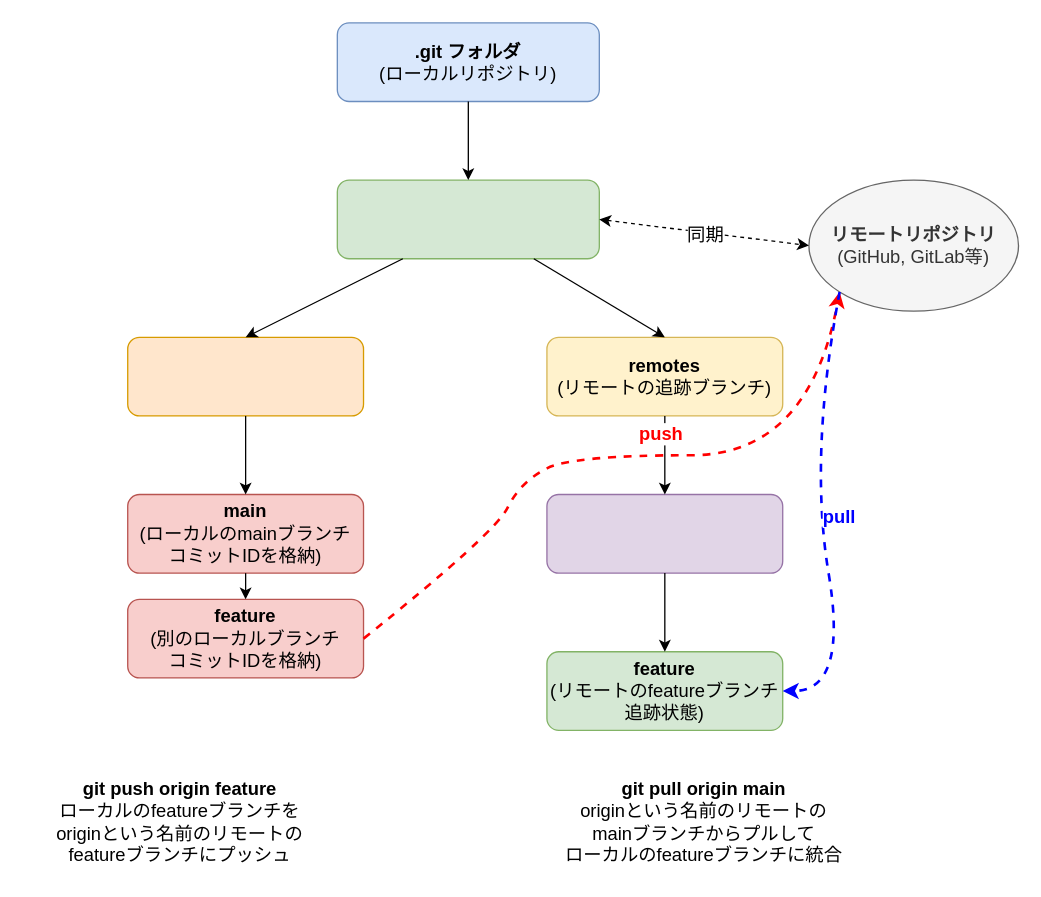
Some shapes in this 1041 by 897 pixel diagram are drawn without their labels. Each missing label, with the box of its shape:
heads (ローカルブランチ): (126, 336, 364, 416)
origin (デフォルトのリモート名): (546, 493, 783, 573)
refs (参照の保存場所): (336, 179, 599, 259)
